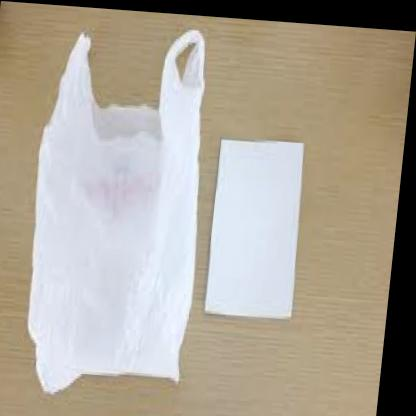Plastic: (2, 22, 222, 399)
